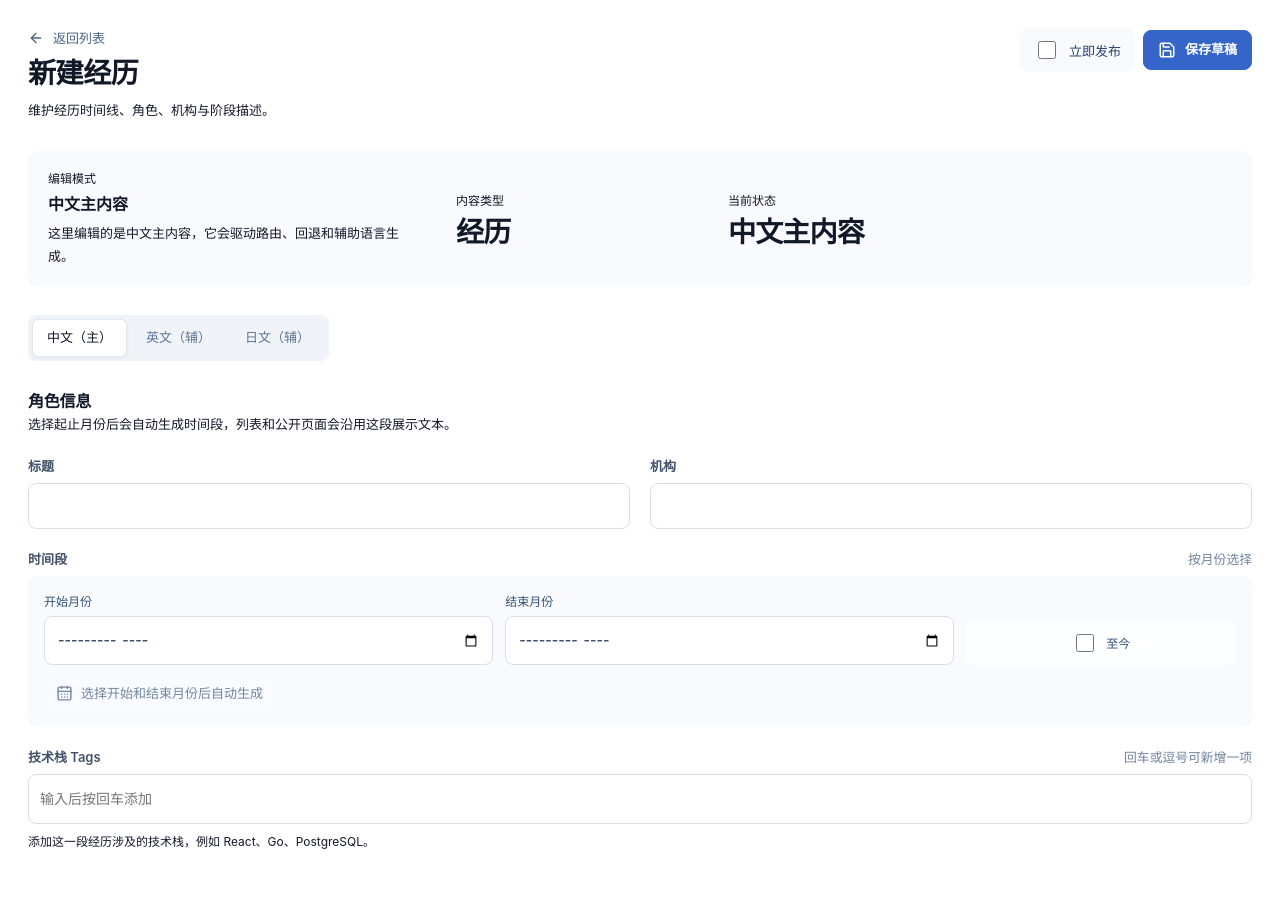
Test case: ContentEditPage › shows multilingual options while creating experience content
The image size is (1280, 900).
Expected: the tab "中文（主）" is shown, [32,319,127,357]
Expected: the tab "日文（辅）" is shown, [230,319,325,357]
Click the tab "英文（辅）" at [178, 338], box [131,319,226,357]
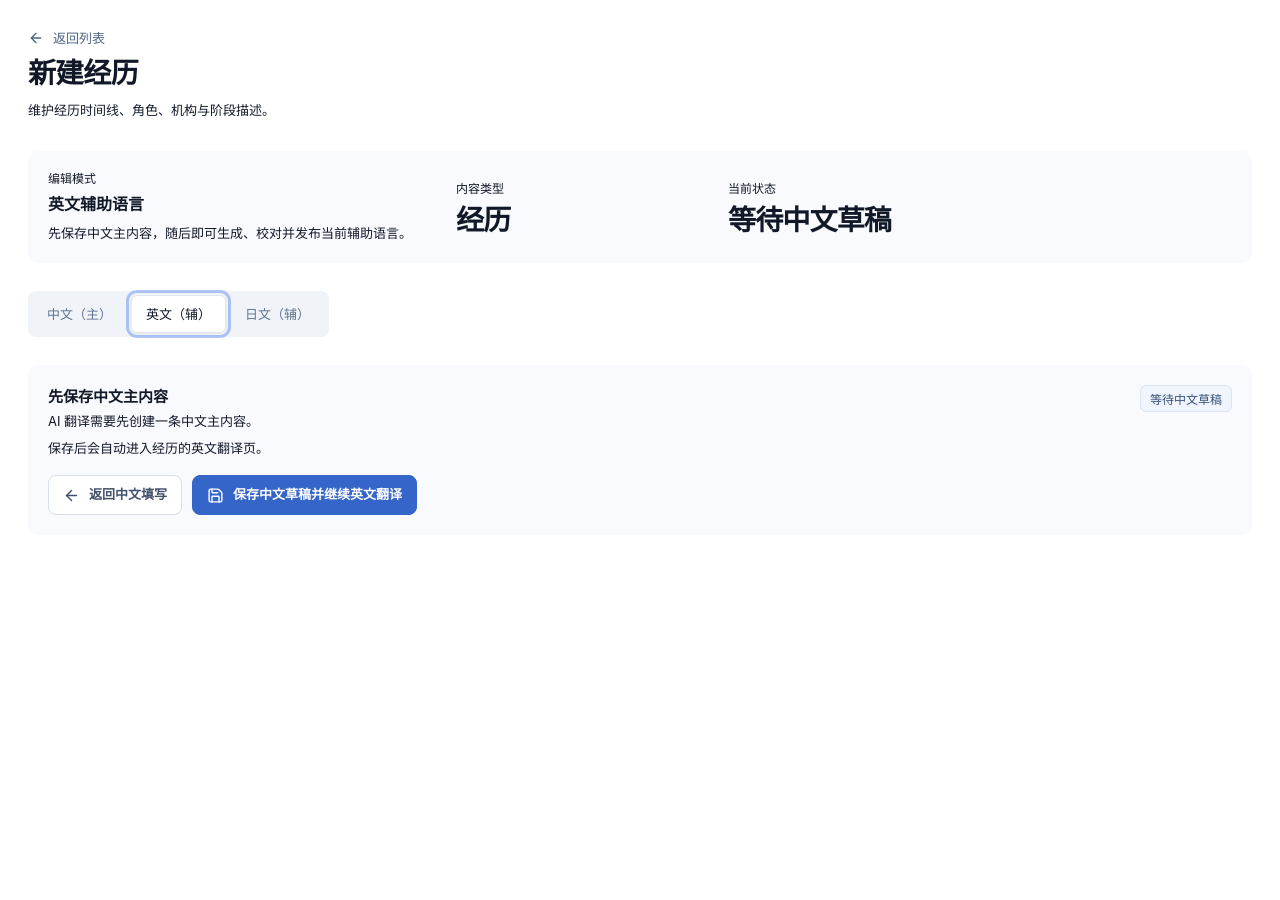
Now the heading "先保存中文主内容" is shown, box [48,387,168,406]
Now the button "保存中文草稿并继续英文翻译" is shown, box [192,475,417,515]
